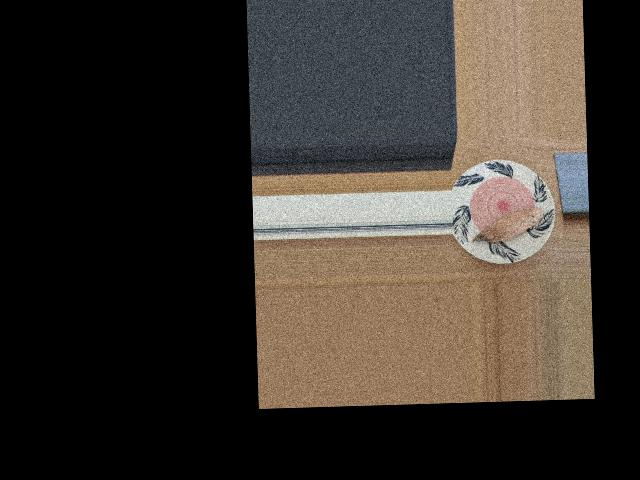sweet_potato: (478, 205, 539, 243)
